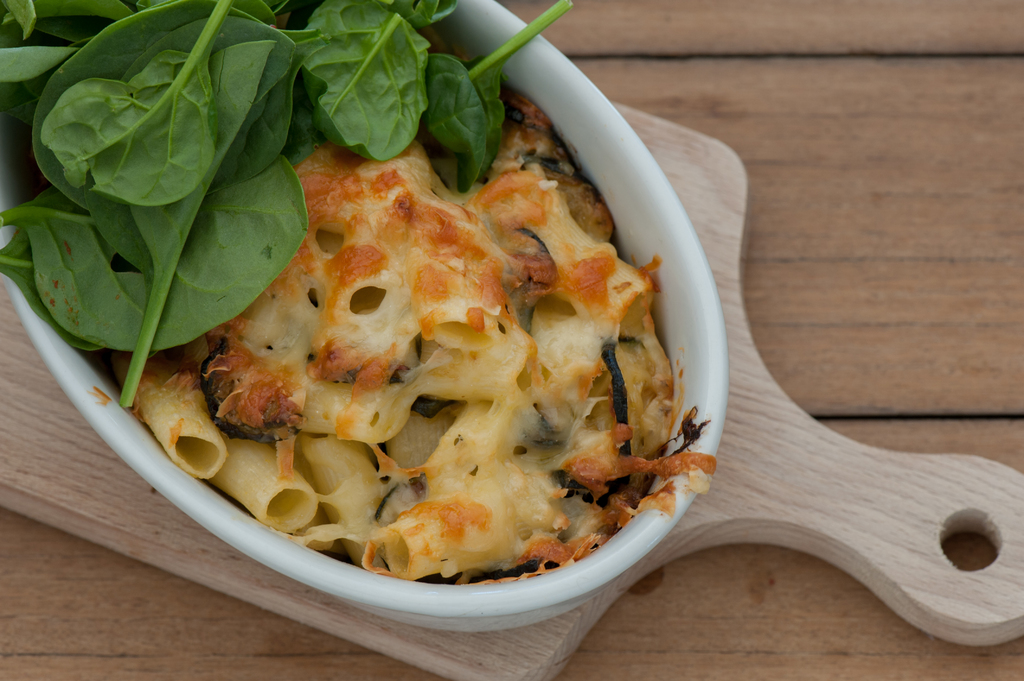pasta: (84, 54, 685, 581)
